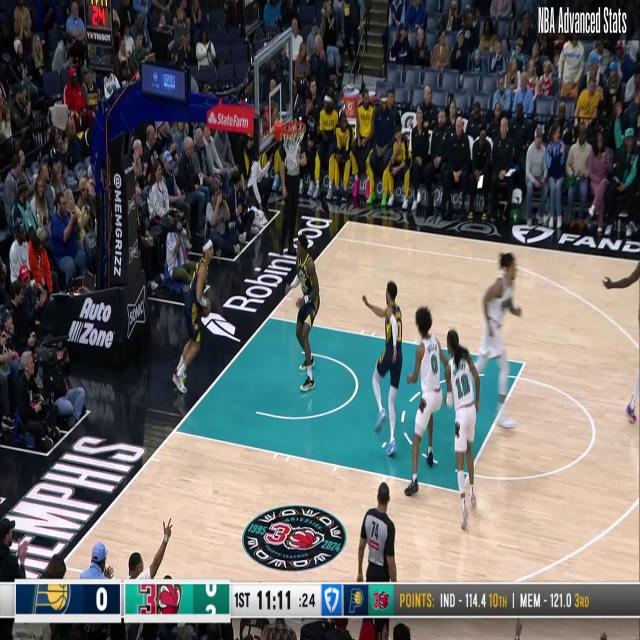ball: (200, 296, 213, 318)
judge: (361, 488, 398, 625), (278, 110, 304, 256)
player: (475, 255, 522, 430), (405, 309, 447, 499), (445, 329, 481, 523), (363, 280, 402, 458), (173, 244, 217, 398), (291, 238, 322, 390)
